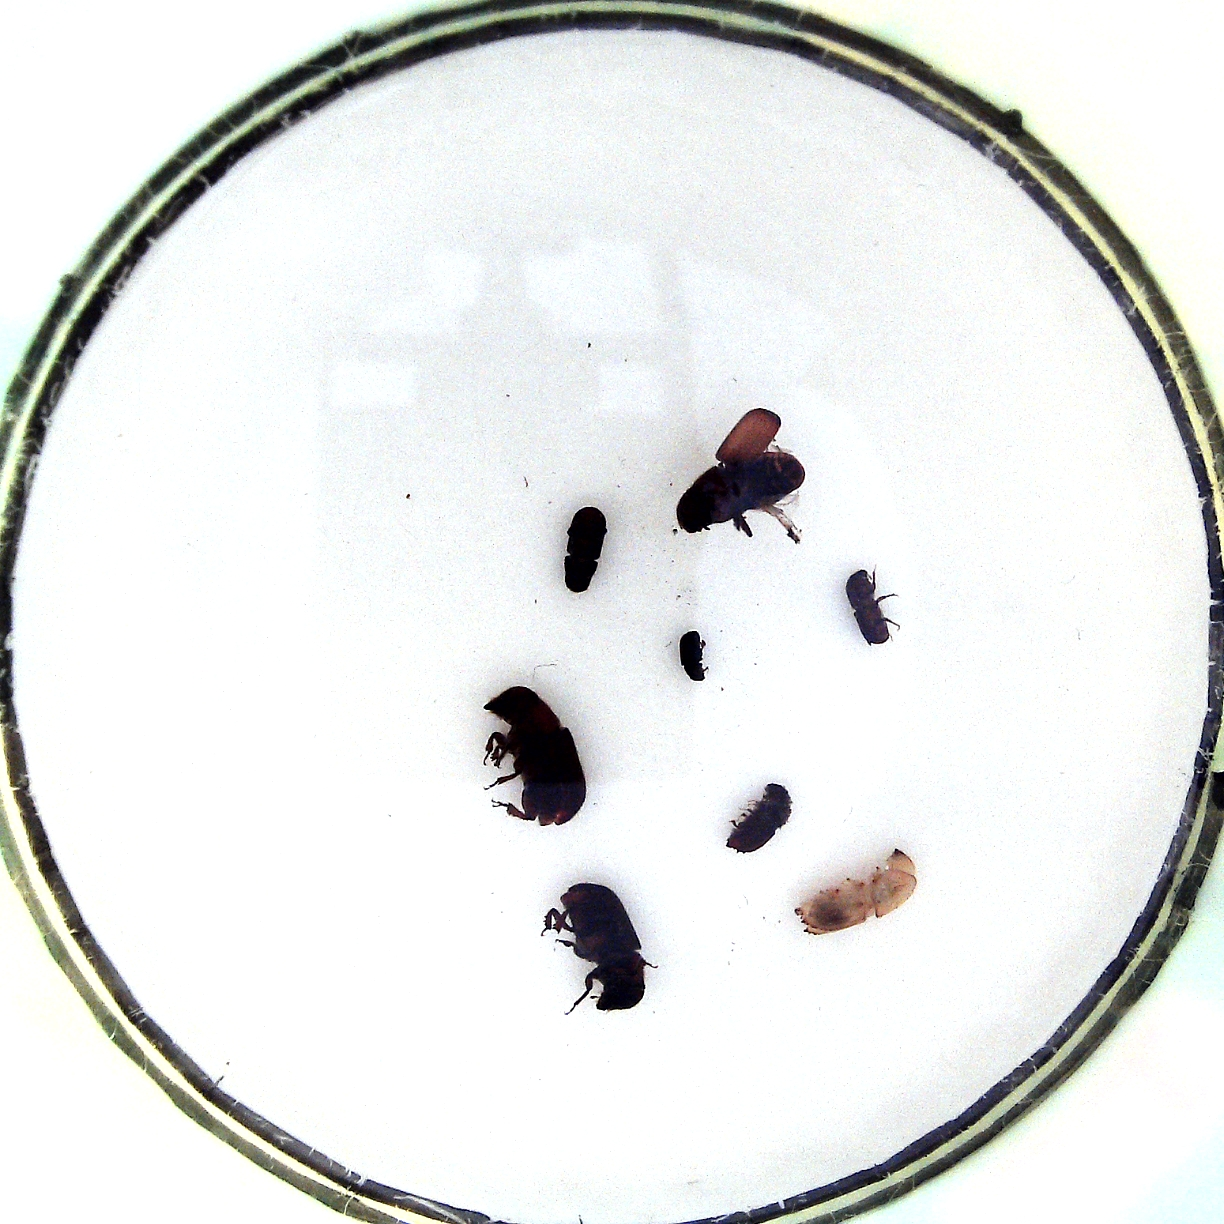Boerner: (790, 845, 921, 935)
Leconte: (671, 406, 812, 543), (480, 684, 591, 832), (540, 880, 653, 1012)
Linnaeus: (718, 776, 791, 855)
acuminatus: (840, 565, 905, 648)
armandi: (558, 501, 611, 599)
coleoptera: (676, 627, 714, 683)
